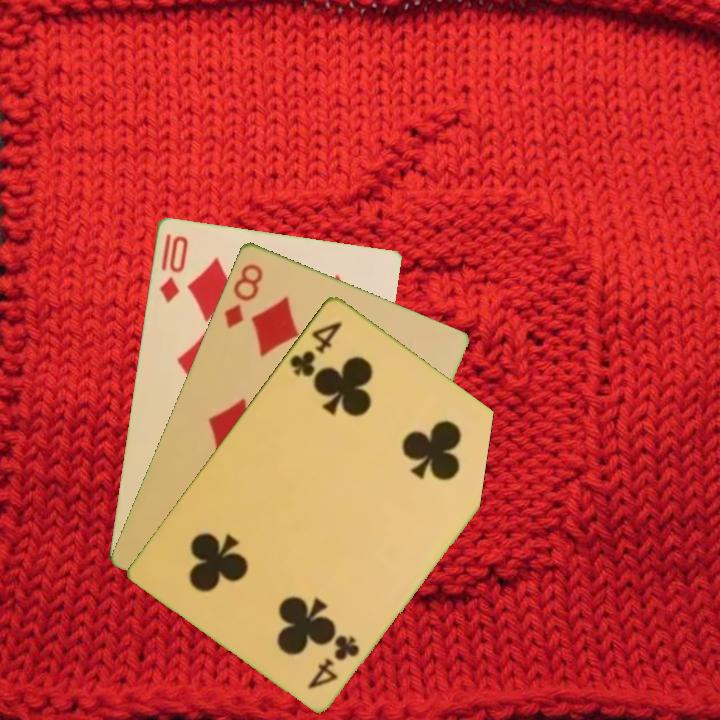10d: (155, 231, 191, 306)
4c: (285, 316, 345, 380), (303, 631, 363, 691)
8d: (220, 259, 266, 332)
